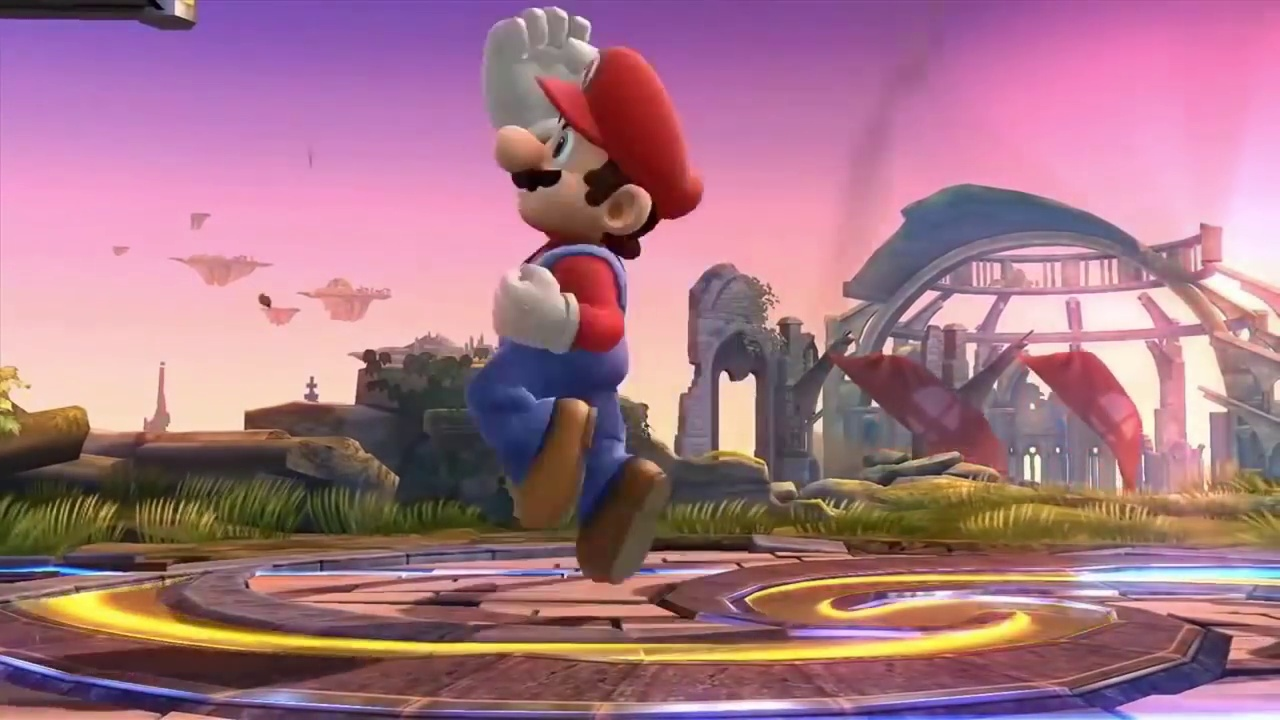Mario: (465, 7, 701, 588)
